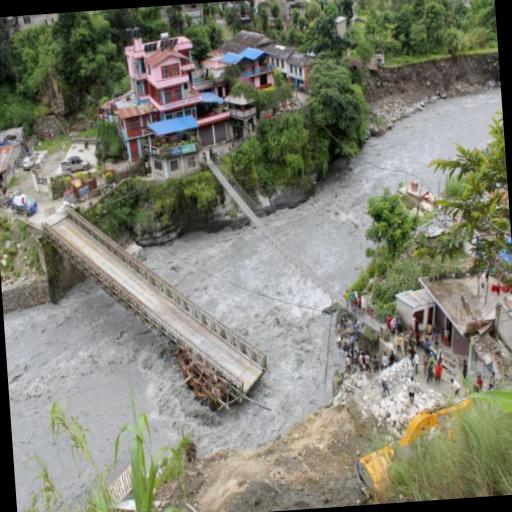flood: (3, 228, 340, 512), (270, 89, 502, 286)
house: (126, 34, 204, 130), (146, 116, 200, 178), (393, 282, 451, 336), (222, 46, 272, 89), (268, 38, 308, 84), (0, 139, 16, 195), (270, 0, 296, 7)
